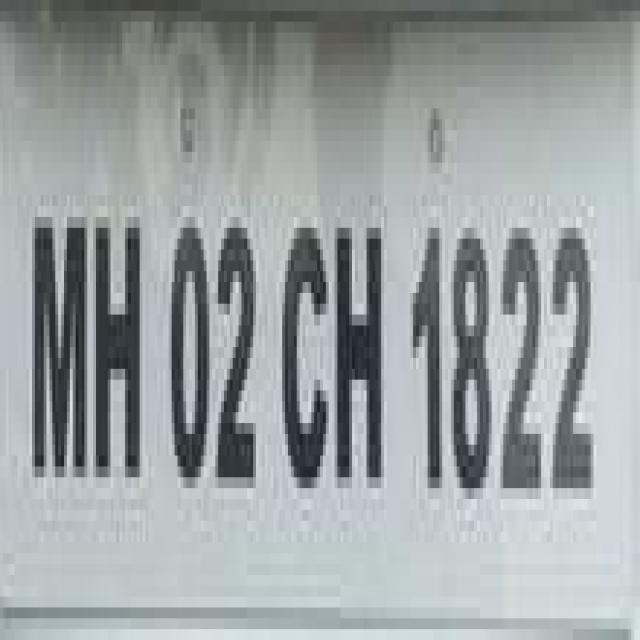license_plate: (11, 32, 640, 618)
